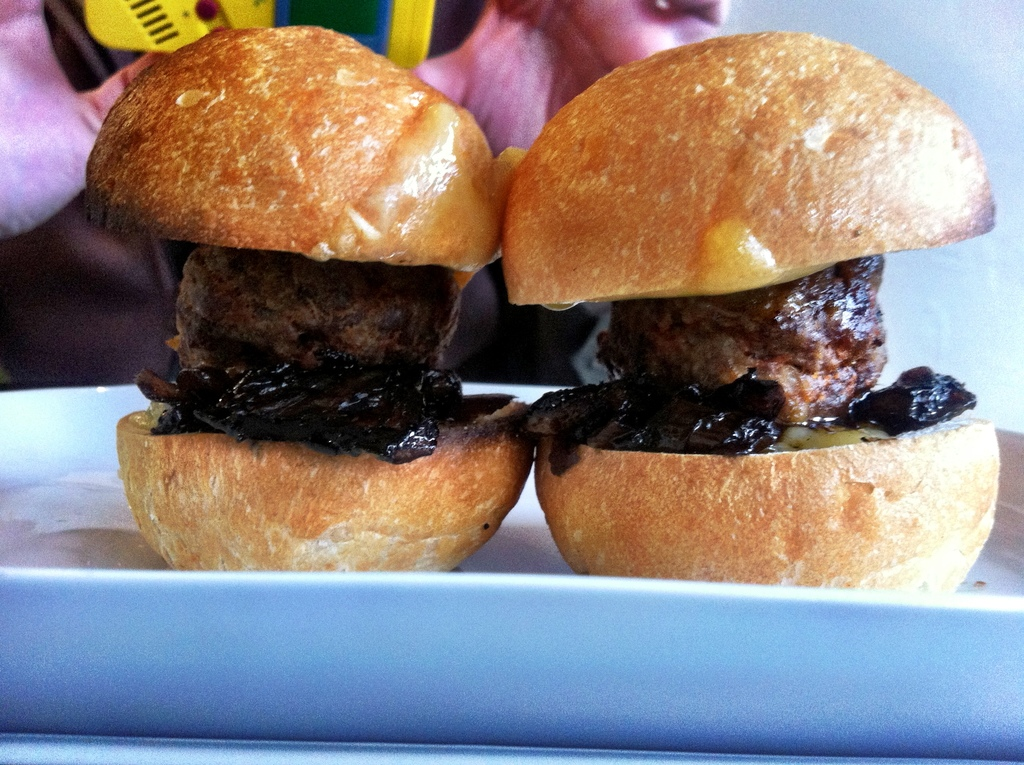Hamburger: (494, 20, 1000, 605), (83, 15, 519, 581)
